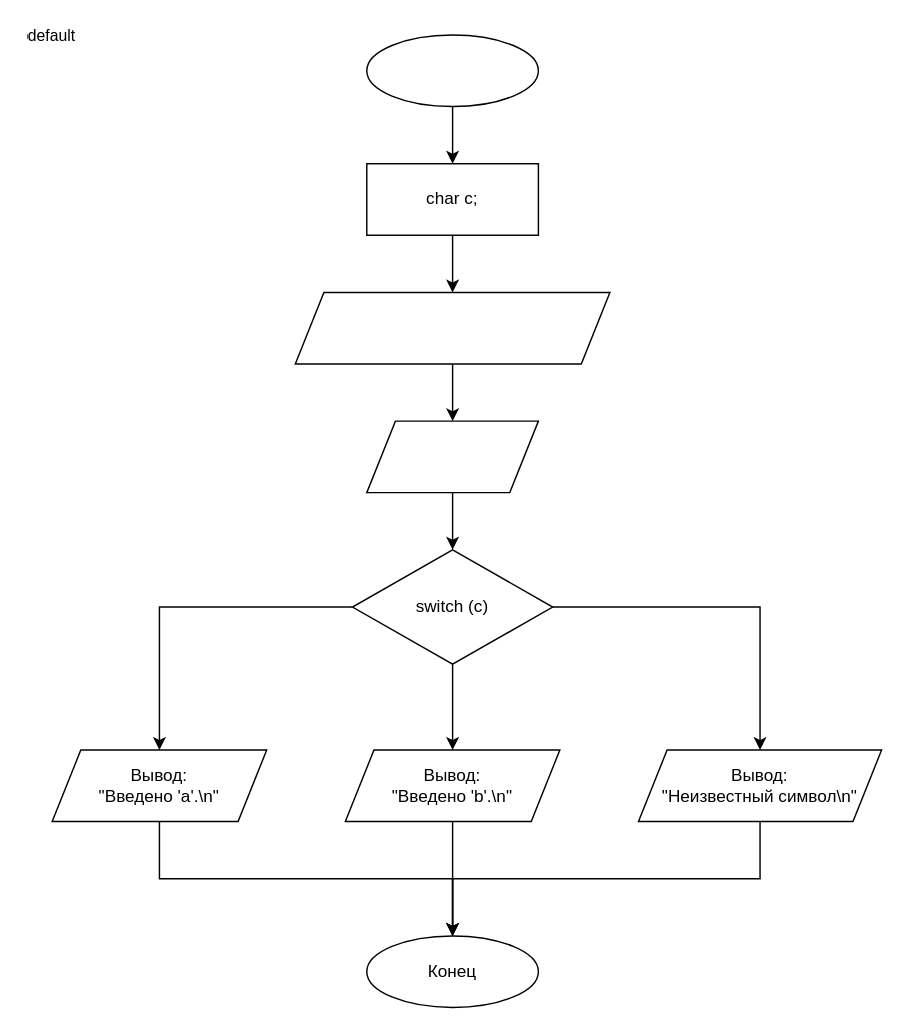
Image size: 907x1032. Some labels were removed from this diagram. The centre of each missing label's shape, as x and y in pixels:
Ввод: c: point 451,456
Вывод: "Введите символы 'a' or 'b': ": point 452,327
Начало: point 451,70
